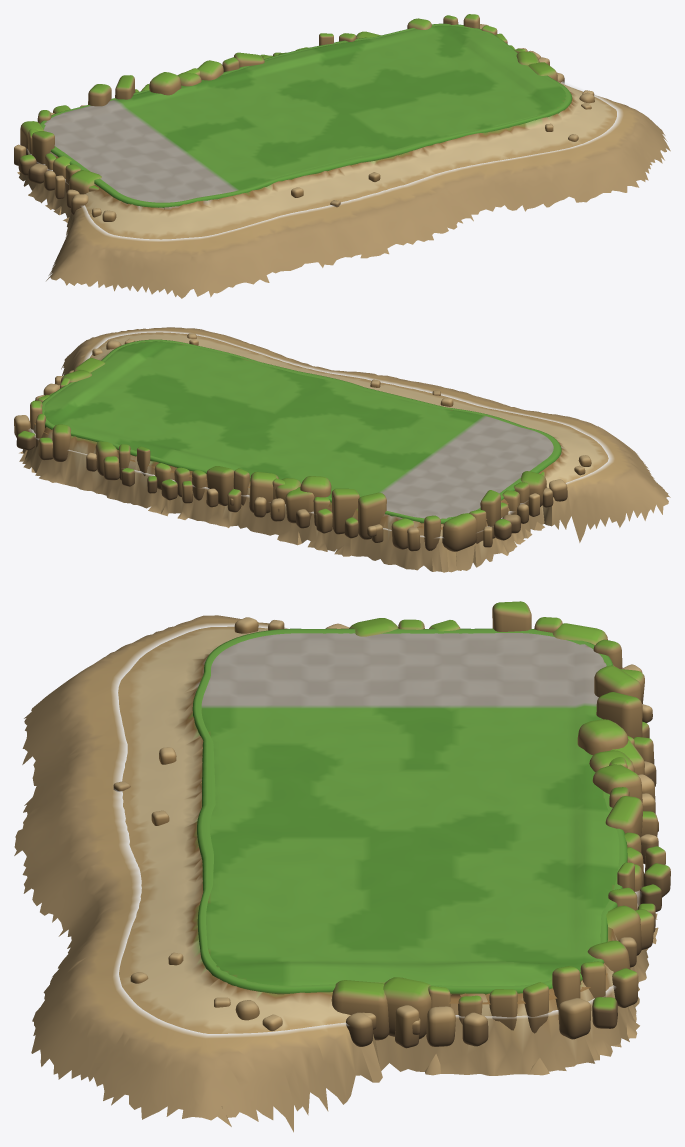
File: valora-island-my.glb
3 views of the same model, one above another, from view 1: azimuth 30°, elevation 25°; view 2: azimuth 150°, elevation 25°; view 3: azimuth 270°, elevation 25° (orthographic). The views are drawn at different scales.
Visible parts, largest first — view 1: island, foam; view 2: island, foam; view 3: island, foam.
Part boxes in pixels (left/top/right/bottom): island: left=14, top=14, right=670, bottom=298; foam: left=27, top=81, right=622, bottom=241; island: left=14, top=327, right=670, bottom=572; foam: left=29, top=330, right=613, bottom=537; island: left=14, top=601, right=670, bottom=1132; foam: left=112, top=623, right=640, bottom=1037.
Size of the model in its own units: 41.78 by 5.28 by 23.67.
